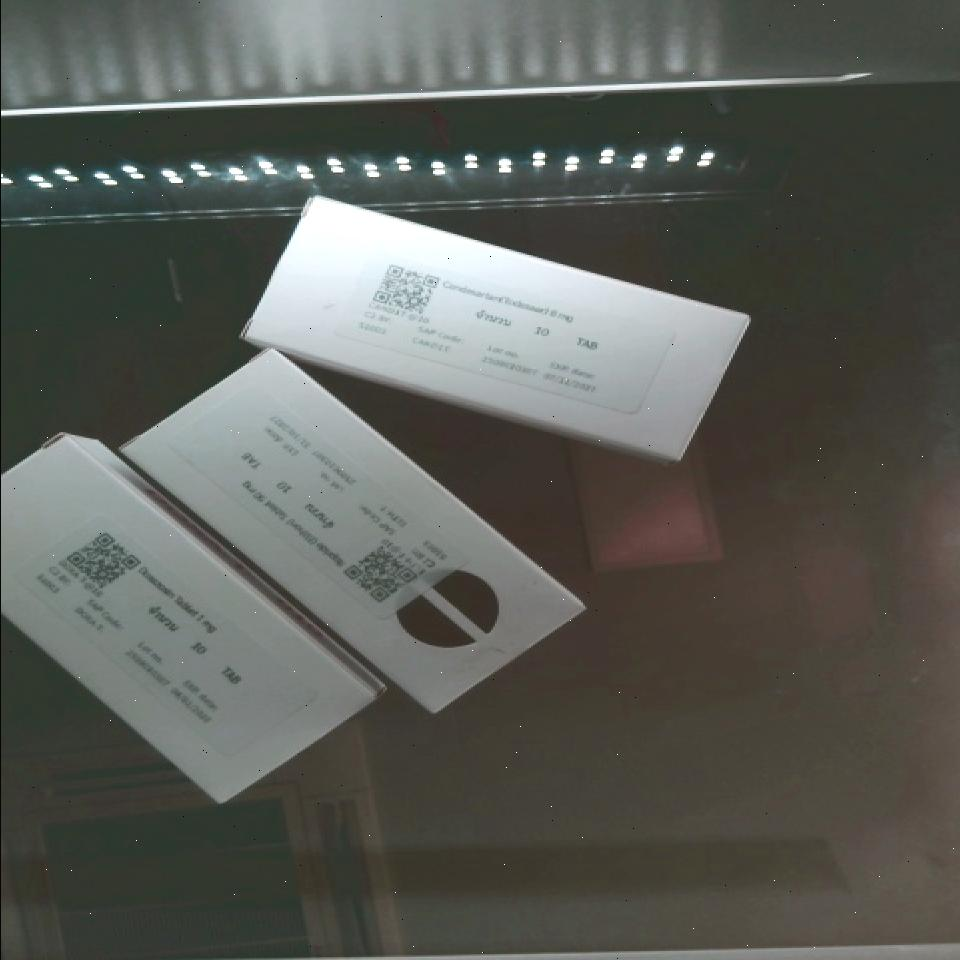medicine_box: (119, 316, 582, 744), (0, 423, 374, 833), (244, 188, 743, 467)
qr_code: (44, 506, 164, 618), (324, 518, 436, 630), (353, 247, 458, 332)
